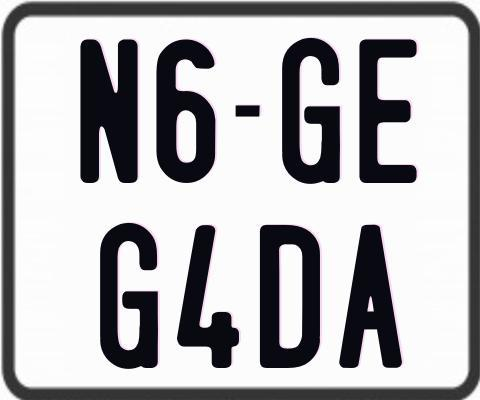4: (177, 222, 244, 371)
6: (155, 38, 216, 184)
A: (339, 225, 407, 374)
D: (258, 225, 320, 373)
E: (357, 37, 417, 182)
G: (100, 220, 162, 371), (281, 36, 340, 184)
N: (80, 36, 140, 182)
